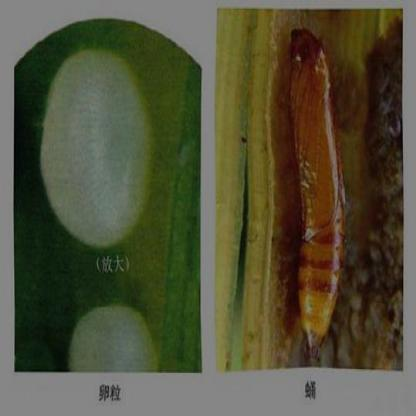whorl-maggot: (286, 26, 352, 364)
